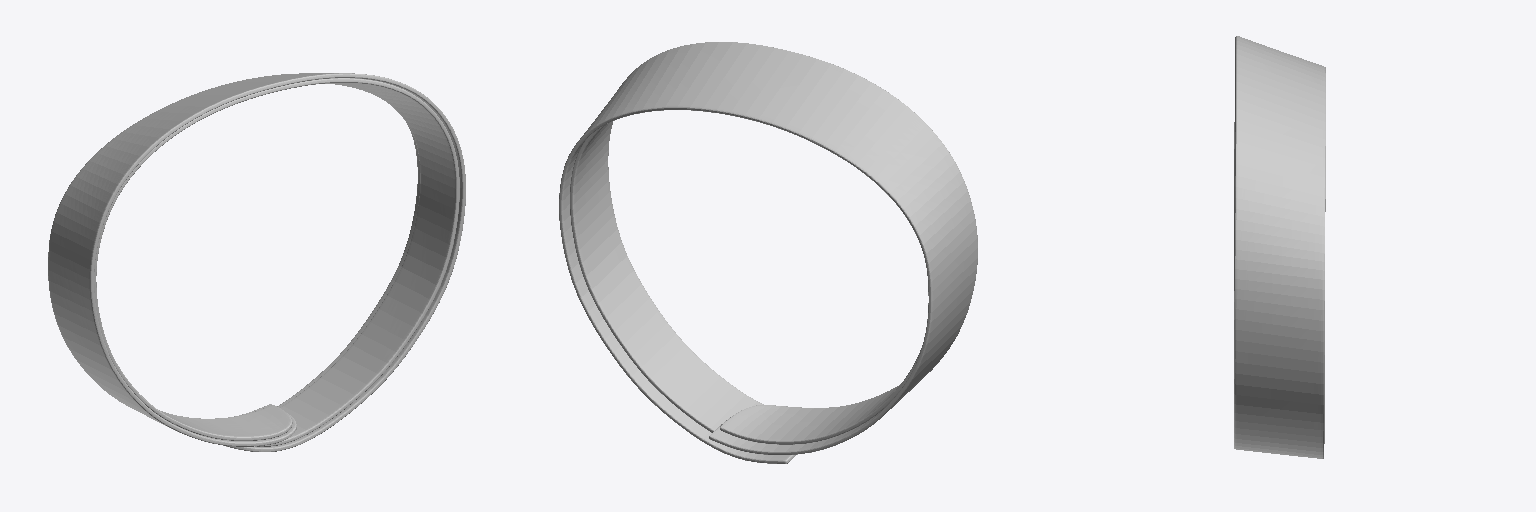
Rendered from shirt 2019-11-28-V3.obj.
3 views of the same model, side by side, from view 1: azimuth 30°, elevation 25°; view 2: azimuth 150°, elevation 25°; view 3: azimuth 270°, elevation 25° (orthographic).
Parts seen in each view (by area): view 1: V_2_external_stand, V_2_internal_stand; view 2: V_2_external_stand, V_2_internal_stand; view 3: V_2_external_stand.
Part boxes in pixels (x1,y1,x2,y2): V_2_external_stand: (48,73,465,451); V_2_internal_stand: (94,78,459,446); V_2_external_stand: (559,42,977,463); V_2_internal_stand: (570,121,921,444); V_2_external_stand: (1234,36,1325,458).
Size of the model in its own units: 1.62 by 1.56 by 0.3424.